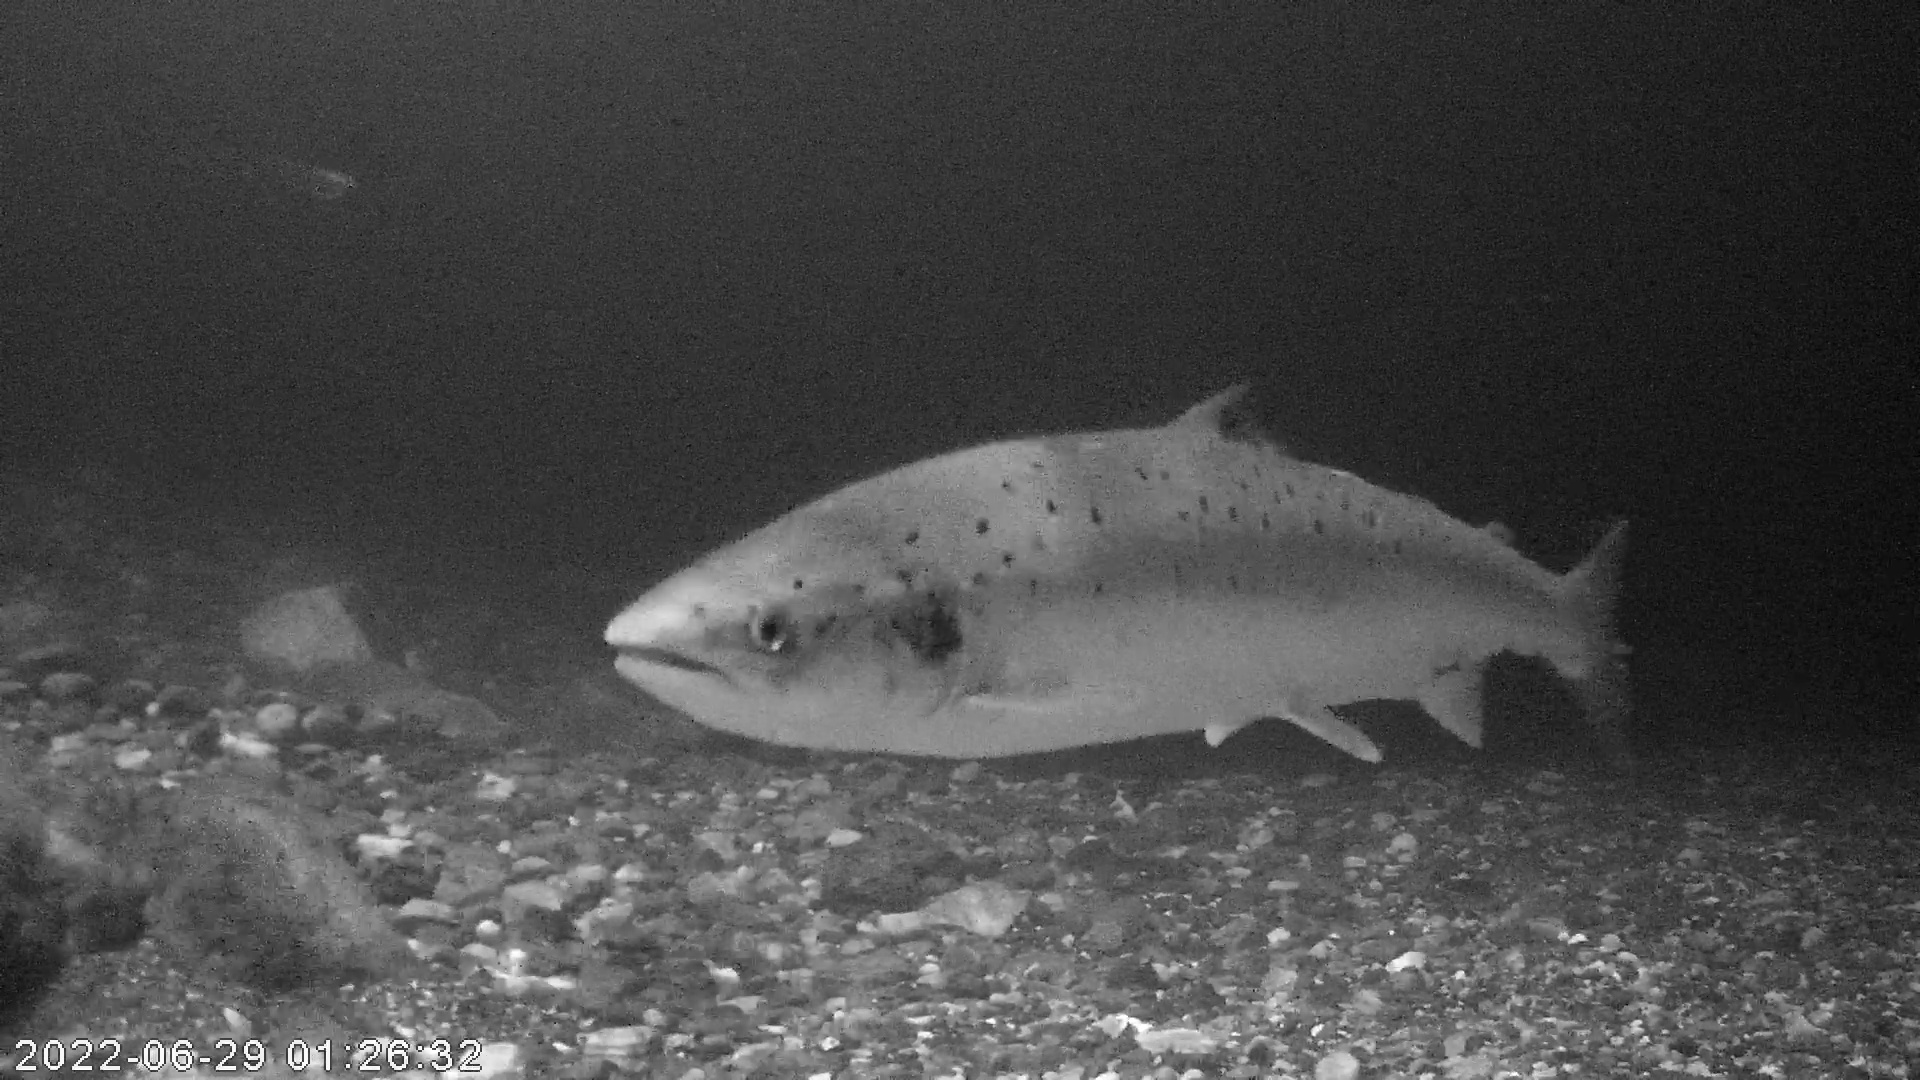salmon: (593, 369, 1638, 775)
